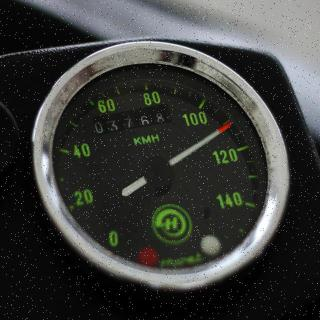gauge: (22, 39, 320, 314), (142, 155, 174, 189), (232, 188, 264, 218), (221, 116, 239, 132)
